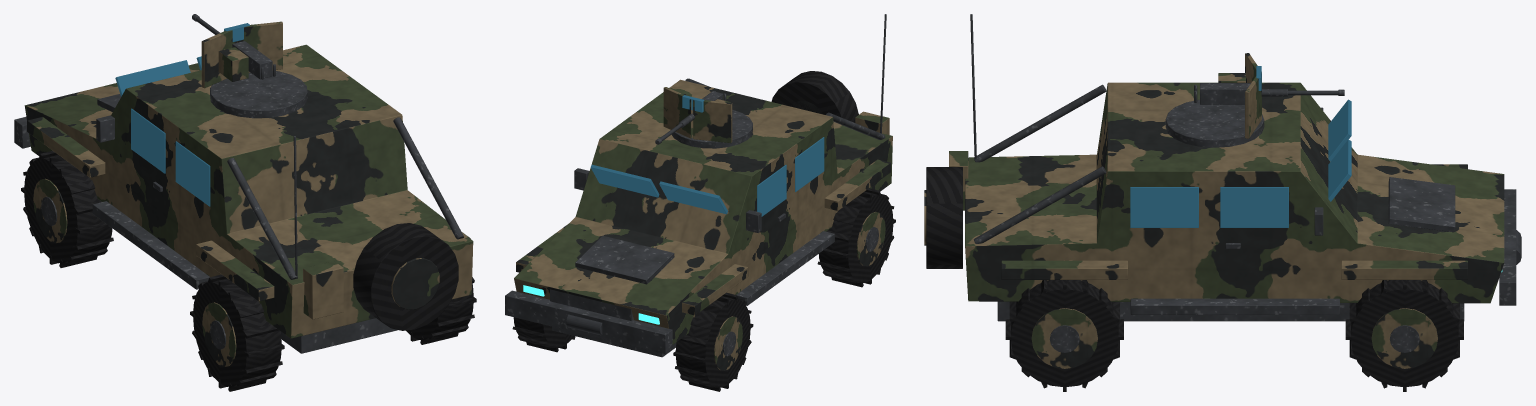
Rendered from VEH_Buggy_LATV4.glb.
The picture shows the model from 3 angles, left to right: view 1: azimuth 30°, elevation 25°; view 2: azimuth 150°, elevation 25°; view 3: azimuth 270°, elevation 25°; orthographic projection. The views are drawn at different scales.
Visible parts, largest first — view 1: VEH_LATV4_Chassis, VEH_LATV4_RoofTurret, VEH_LATV4_Wheel_RL, VEH_LATV4_Wheel_FL, VEH_LATV4_Wheel_RR; view 2: VEH_LATV4_Chassis, VEH_LATV4_Wheel_FL, VEH_LATV4_Wheel_RL, VEH_LATV4_RoofTurret, VEH_LATV4_Wheel_FR; view 3: VEH_LATV4_Chassis, VEH_LATV4_Wheel_RR, VEH_LATV4_Wheel_FR, VEH_LATV4_RoofTurret.
Boxes of the visible parts, x1,y1,x2,y2 form: VEH_LATV4_Chassis: [14, 44, 473, 353]; VEH_LATV4_RoofTurret: [192, 14, 307, 118]; VEH_LATV4_Wheel_RL: [190, 274, 284, 391]; VEH_LATV4_Wheel_FL: [21, 150, 113, 267]; VEH_LATV4_Wheel_RR: [406, 277, 476, 344]; VEH_LATV4_Chassis: [505, 14, 892, 357]; VEH_LATV4_Wheel_FL: [673, 292, 753, 391]; VEH_LATV4_Wheel_RL: [817, 188, 895, 287]; VEH_LATV4_RoofTurret: [655, 87, 752, 148]; VEH_LATV4_Wheel_FR: [512, 317, 575, 352]; VEH_LATV4_Chassis: [924, 14, 1521, 321]; VEH_LATV4_Wheel_RR: [1005, 280, 1123, 391]; VEH_LATV4_Wheel_FR: [1345, 280, 1463, 391]; VEH_LATV4_RoofTurret: [1165, 53, 1344, 147].
Bounding box in the file's own units: 2.51 × 2.88 × 5.57.
6 materials, 6 textured.
